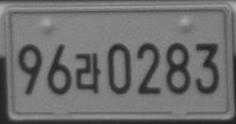0: (106, 41, 131, 95)
2: (136, 41, 161, 94)
3: (195, 42, 220, 94)
6: (47, 43, 72, 95)
8: (165, 42, 191, 94)
9: (16, 42, 42, 95)
라: (75, 51, 101, 93)
